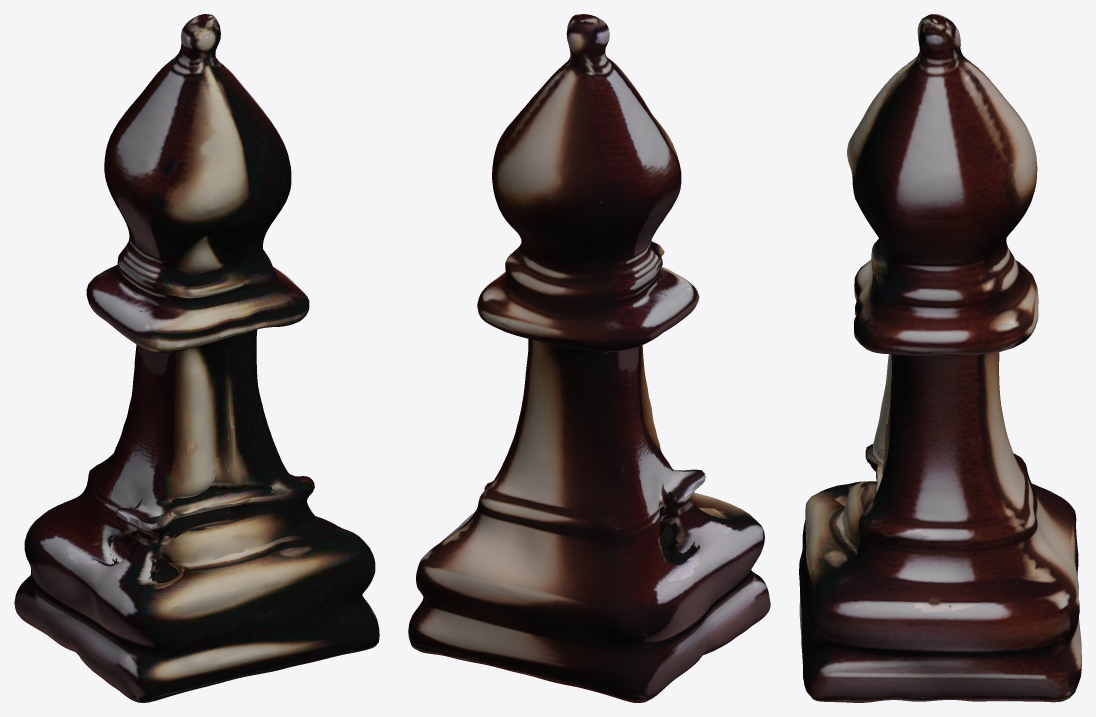
The model's file is BishopModel.fbx.
3 renders of one model, left to right at view 1: azimuth 30°, elevation 25°; view 2: azimuth 150°, elevation 25°; view 3: azimuth 270°, elevation 25°, orthographic. The views are drawn at different scales.
Parts seen in each view (by area): view 1: A simple Bishop obj-re_2hIIAKyyxR875rfQRP0Wxl2izXW; view 2: A simple Bishop obj-re_2hIIAKyyxR875rfQRP0Wxl2izXW; view 3: A simple Bishop obj-re_2hIIAKyyxR875rfQRP0Wxl2izXW.
Part boxes in pixels (<box>): A simple Bishop obj-re_2hIIAKyyxR875rfQRP0Wxl2izXW: <box>14,14,379,702</box>; A simple Bishop obj-re_2hIIAKyyxR875rfQRP0Wxl2izXW: <box>408,14,770,702</box>; A simple Bishop obj-re_2hIIAKyyxR875rfQRP0Wxl2izXW: <box>799,14,1081,702</box>.
Size of the model in its own units: 62.21 by 145 by 58.32.
1 material, 1 textured.
